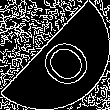O_NW: (20, 22, 90, 88)
